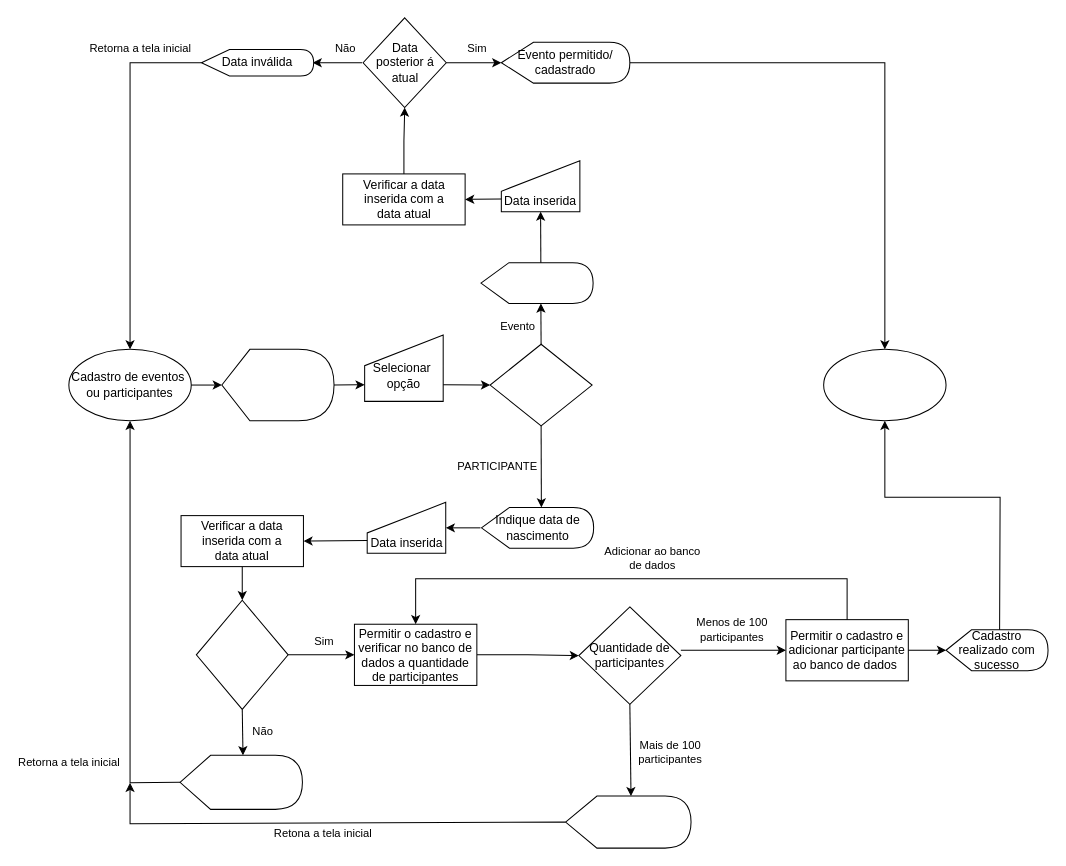
Image size: 1066x866. Some labels were removed from this diagram. The centre of each missing label's shape, as x and y in pixels:
"APROVEITE O EVENTO" belongs at point 884,384.
"Cadastro não permitido por idade insuficiente" belongs at point 240,781.
"Cadastro não realizado por excesso de participantes" belongs at point 628,821.
"Evento ou Participante" belongs at point 540,384.
"Indique a data do evento" belongs at point 536,282.
"Participante maior de 18 anos?" belongs at point 241,654.
"Você deseja cadastrar um evento ou ser participante?" belongs at point 277,384.
